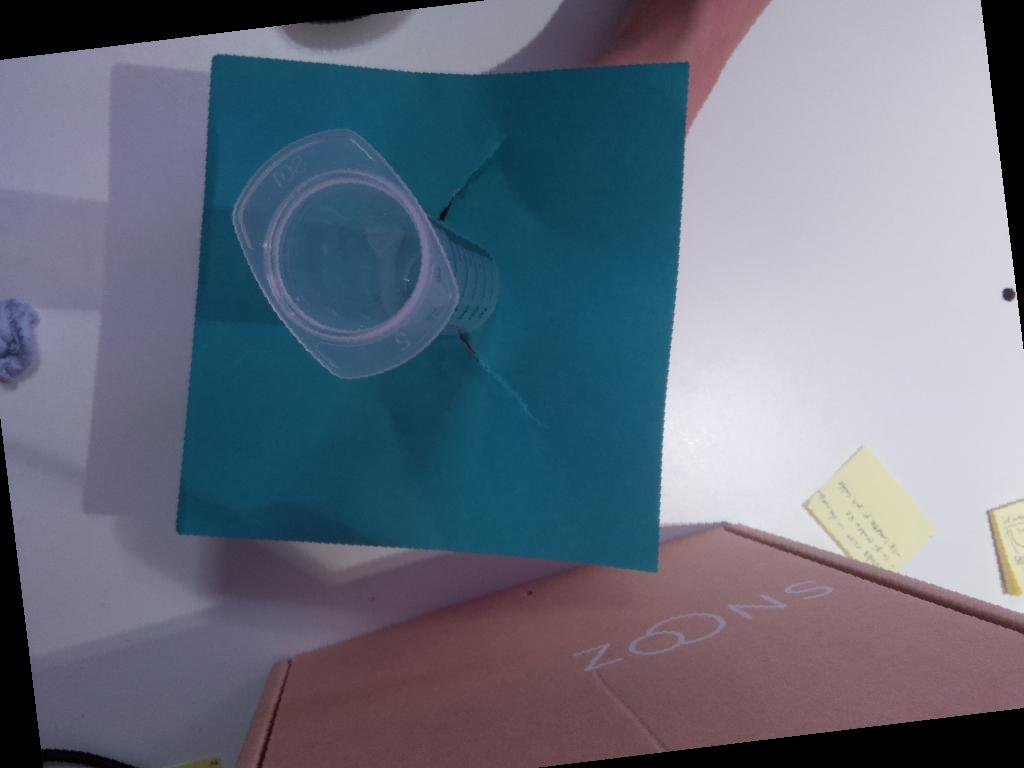clean: (228, 125, 464, 384)
